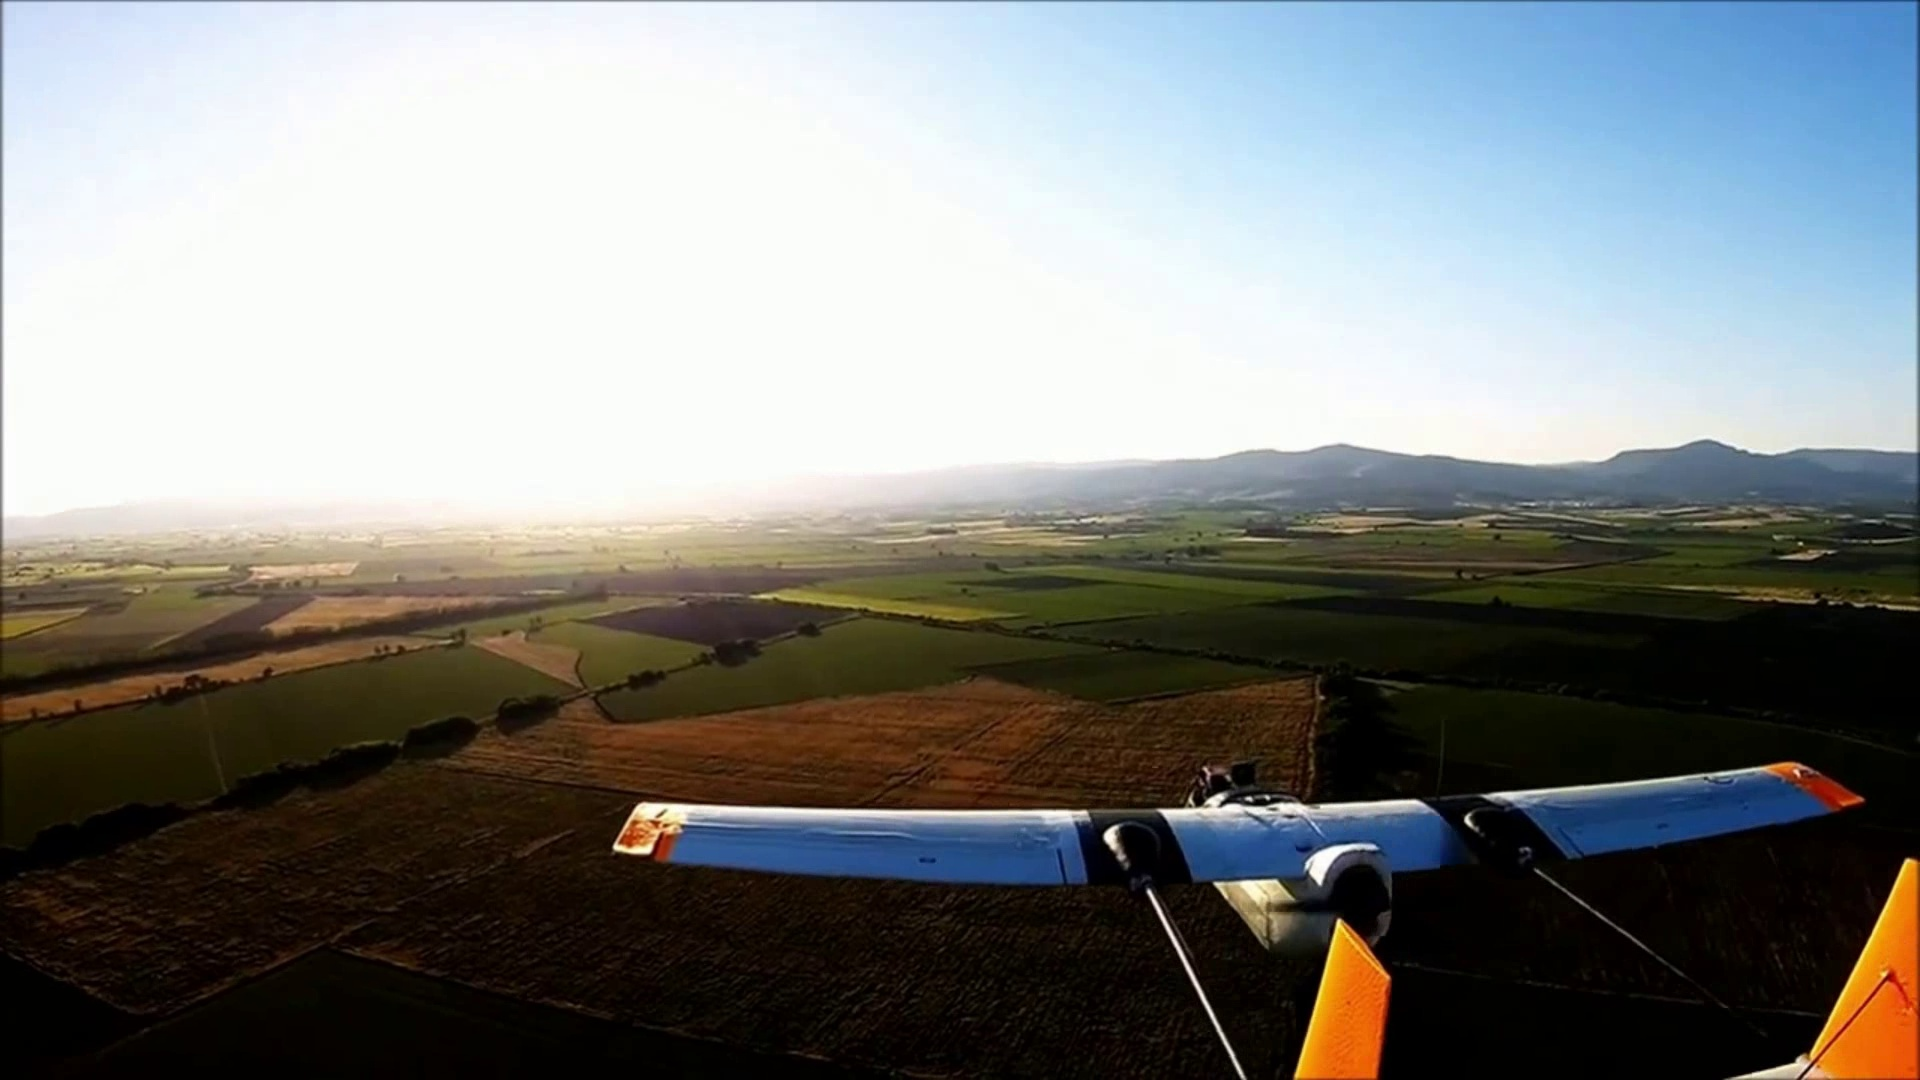airplane: (608, 760, 1880, 1068)
